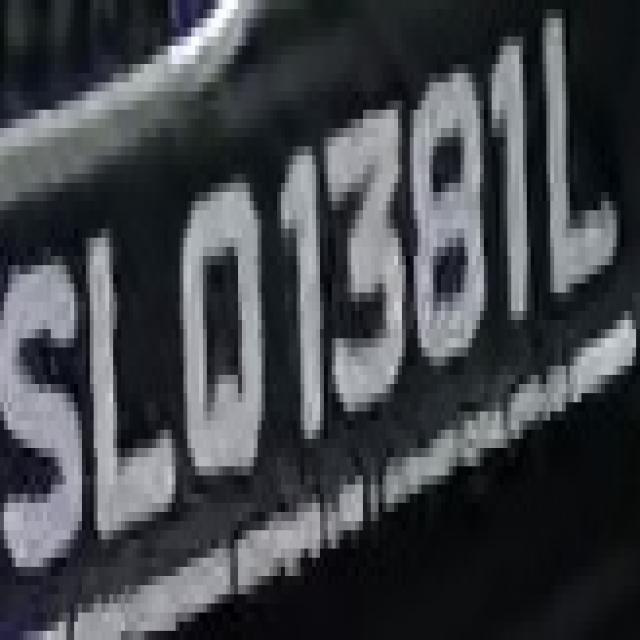1: (480, 18, 542, 357), (273, 128, 328, 475)
3: (312, 119, 402, 439)
8: (390, 64, 484, 411)
L: (78, 210, 183, 549), (534, 9, 620, 348)
Q: (172, 165, 281, 530)
S: (12, 238, 82, 631)
